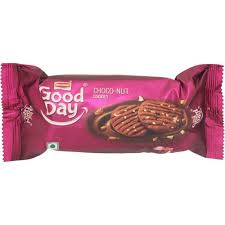gooday-small-choco: (1, 60, 225, 155)
